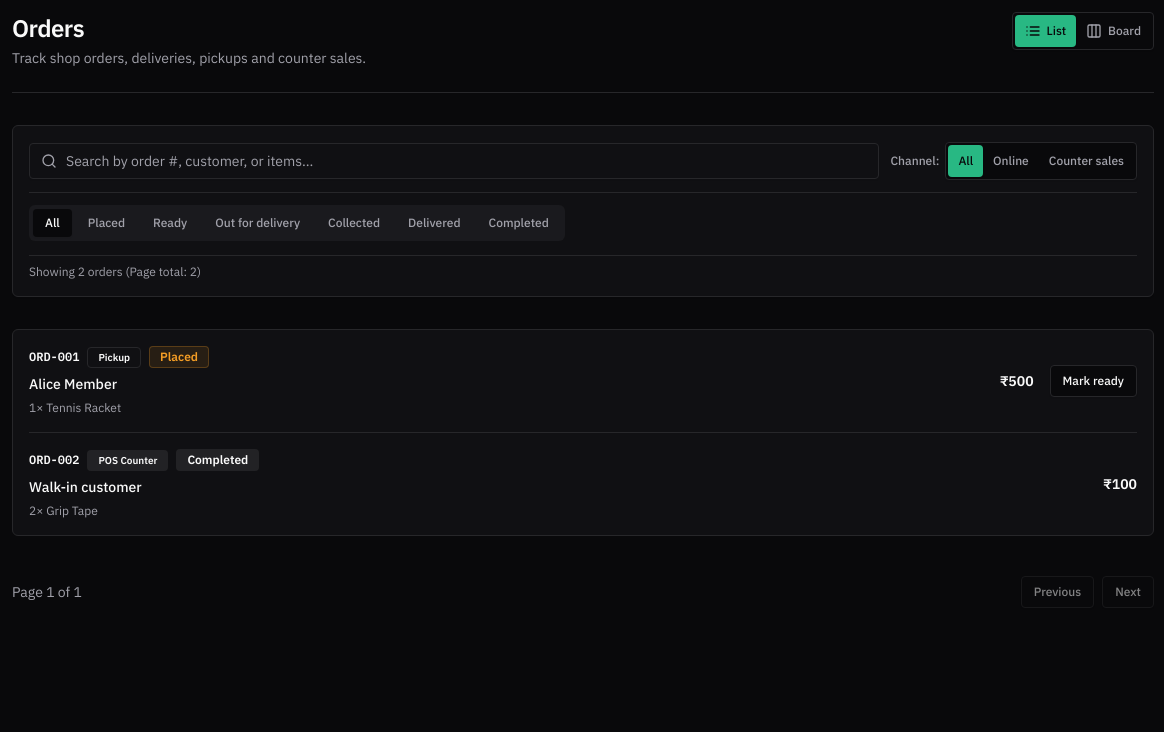
Test: Orders Page & Board Layout (Issue #72) › separates POS counter orders into dedicated POS column instead of oversized Done column (Issue #72)
expect the text "ORD-001" is shown: met, box left=29, top=349, right=79, bottom=365
Click the button "Board".
click(1114, 31)  # box left=1076, top=15, right=1151, bottom=47
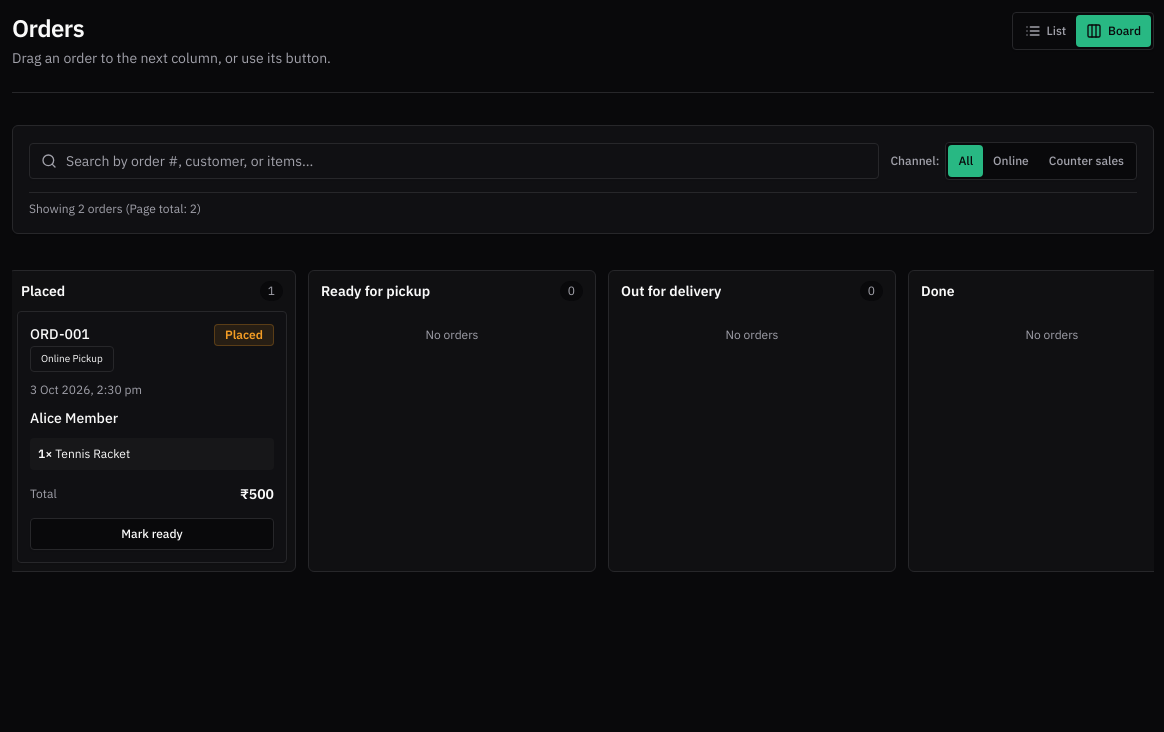
expect the list item "Placed" shows "ORD-001": met, box left=30, top=325, right=90, bottom=343
expect the list item "Done" no longer shows "ORD-002": met, box left=908, top=270, right=1158, bottom=572
